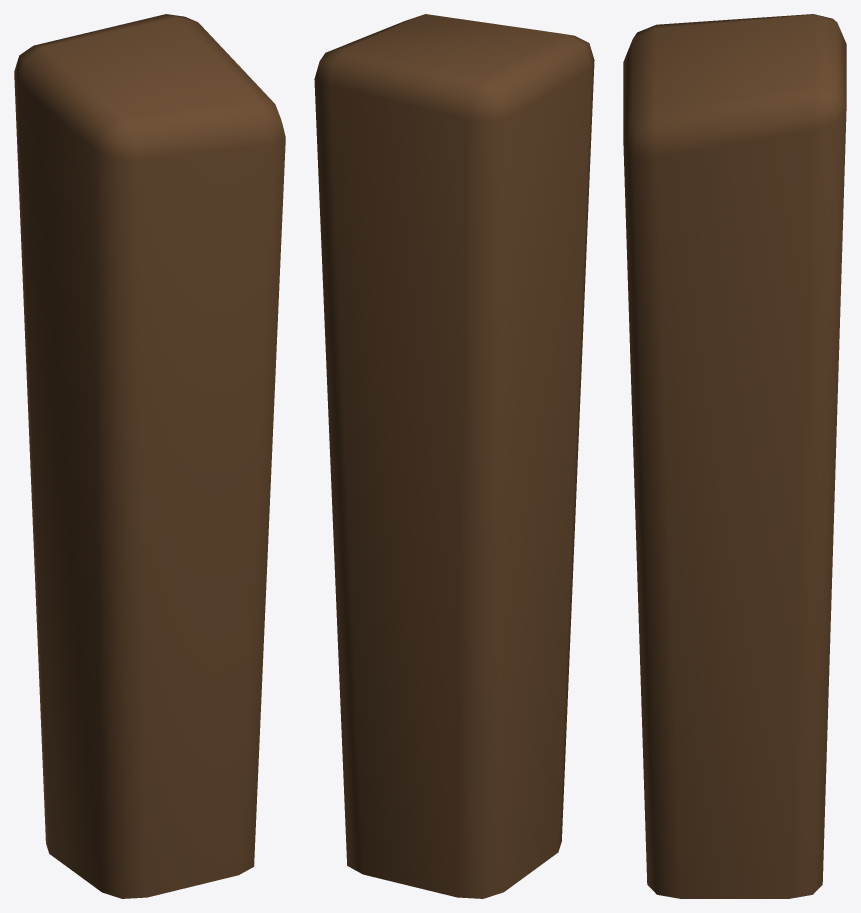
The model's file is fence-column-1.fbx.
3 renders of one model, left to right at view 1: azimuth 30°, elevation 25°; view 2: azimuth 150°, elevation 25°; view 3: azimuth 270°, elevation 25°, orthographic. The views are drawn at different scales.
Parts seen in each view (by area): view 1: fence-column-1; view 2: fence-column-1; view 3: fence-column-1.
Part boxes in pixels (x1,y1,x2,y2): fence-column-1: (14, 14, 285, 898); fence-column-1: (314, 14, 594, 898); fence-column-1: (623, 14, 846, 898).
Size of the model in its own units: 0.2643 by 1.06 by 0.2643.
